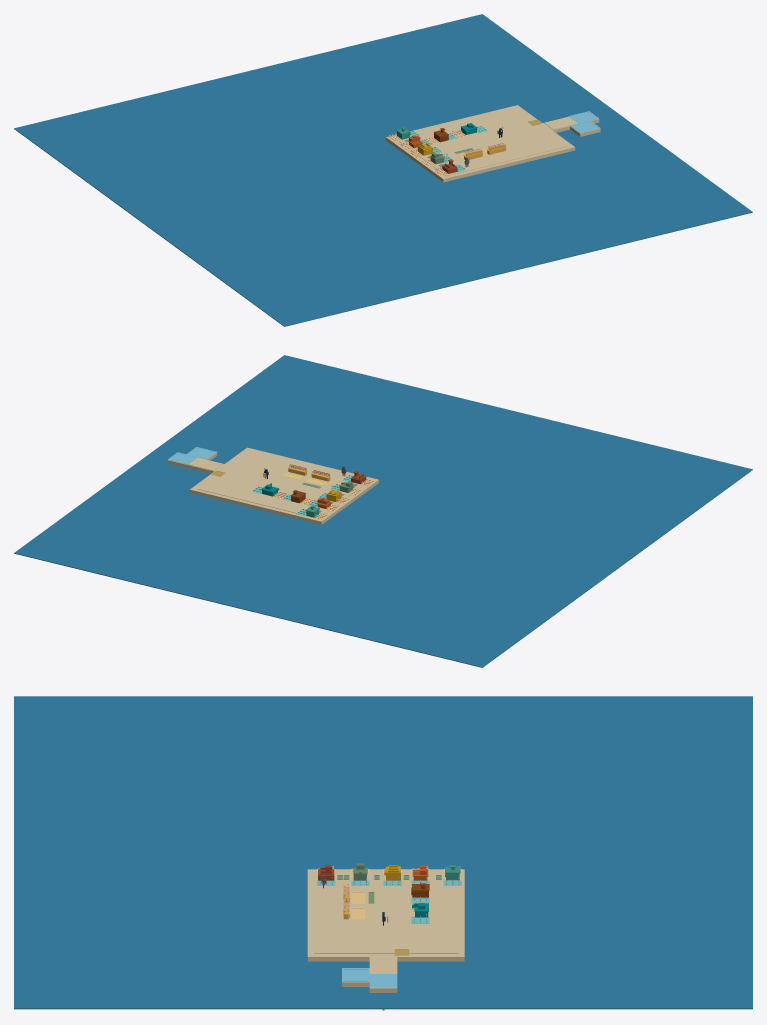
The model's file is moon_cove_blockout.glb.
3 renders of one model, top to bottom at view 1: azimuth 30°, elevation 25°; view 2: azimuth 150°, elevation 25°; view 3: azimuth 270°, elevation 25°, orthographic. The views are drawn at different scales.
Visible parts, largest first — view 1: Water, Ground_cove_land; view 2: Water, Ground_cove_land; view 3: Water, Ground_cove_land, Ground_cove_pier.
Part boxes in pixels (left/top/right/bottom): Water: left=14, top=14, right=752, bottom=326; Ground_cove_land: left=386, top=105, right=575, bottom=182; Water: left=14, top=355, right=752, bottom=667; Ground_cove_land: left=189, top=447, right=378, bottom=524; Water: left=14, top=696, right=752, bottom=1009; Ground_cove_land: left=307, top=869, right=464, bottom=961; Ground_cove_pier: left=369, top=956, right=397, bottom=992.
Size of the model in its own units: 80 by 11.84 by 80.
